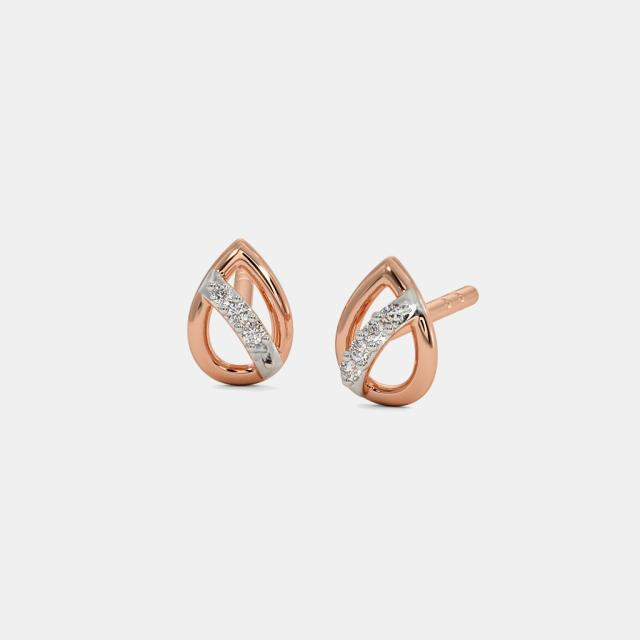missing gem: (384, 305, 408, 326)
